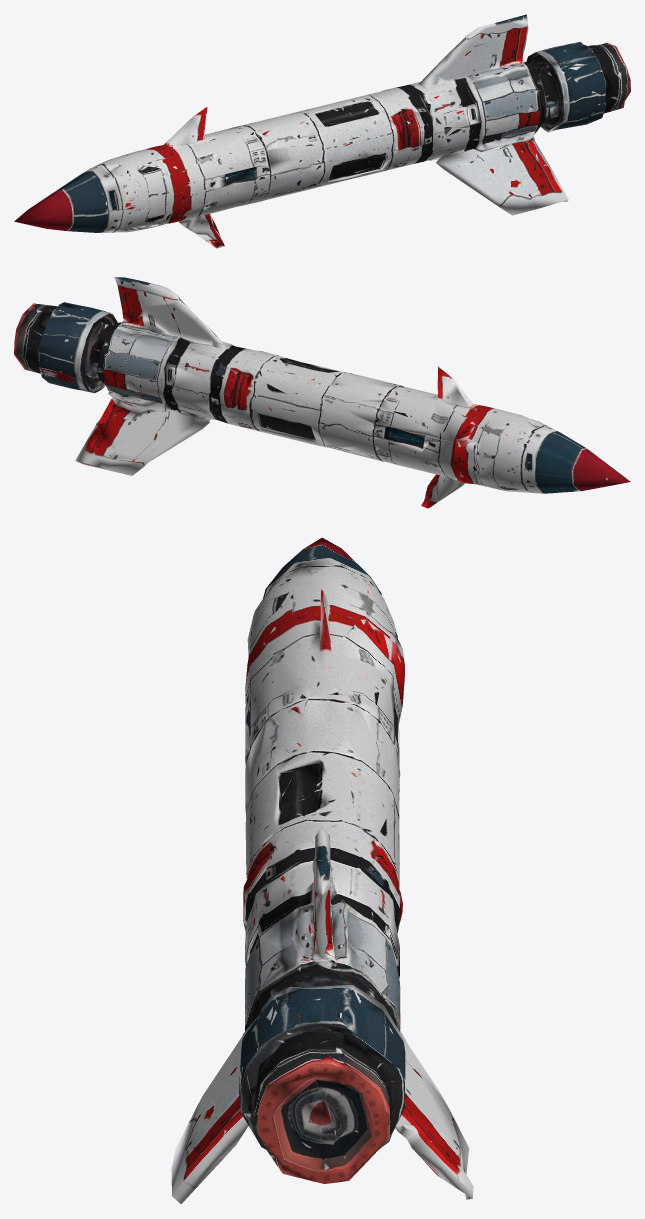
Rendered from missile.glb.
3 renders of one model, top to bottom at view 1: azimuth 30°, elevation 25°; view 2: azimuth 150°, elevation 25°; view 3: azimuth 270°, elevation 25°, orthographic. The views are drawn at different scales.
Size of the model in its own units: 1.9 by 0.4892 by 0.4143.
1 material, 1 textured.
